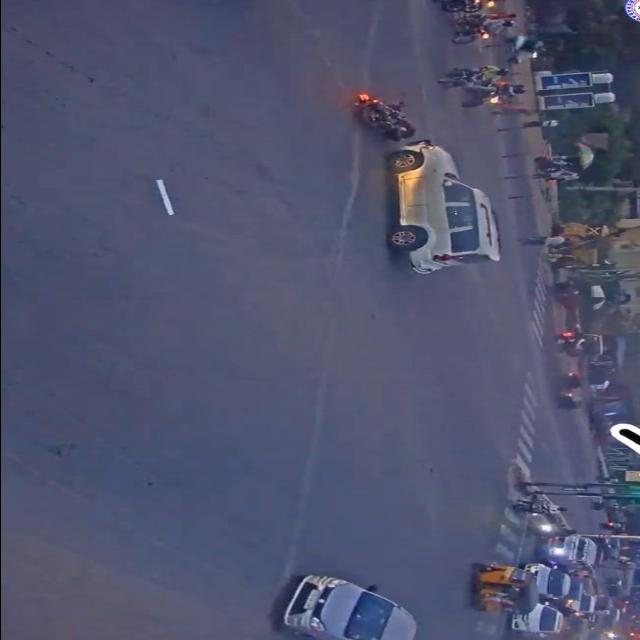accident: (335, 87, 513, 285)
non_accident: (459, 500, 596, 640), (422, 0, 526, 47), (433, 66, 535, 111)
